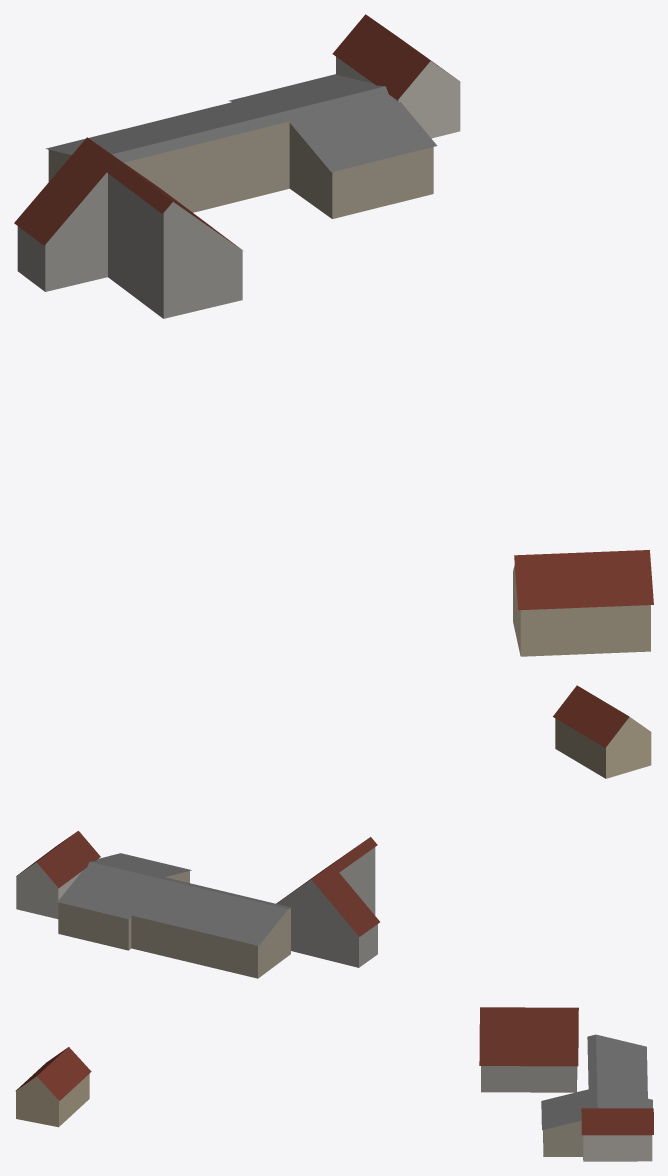
The picture shows the model from 3 angles, top to bottom: view 1: azimuth 30°, elevation 25°; view 2: azimuth 150°, elevation 25°; view 3: azimuth 270°, elevation 25°; orthographic projection. The views are drawn at different scales.
Visible parts, largest first — view 1: buildings; view 2: buildings; view 3: buildings.
Boxes of the visible parts, x1,y1,x2,y2 form: buildings: (14, 14, 653, 656); buildings: (16, 685, 651, 978); buildings: (15, 1007, 653, 1161).
Size of the model in its own units: 57.88 by 20.2 by 126.
